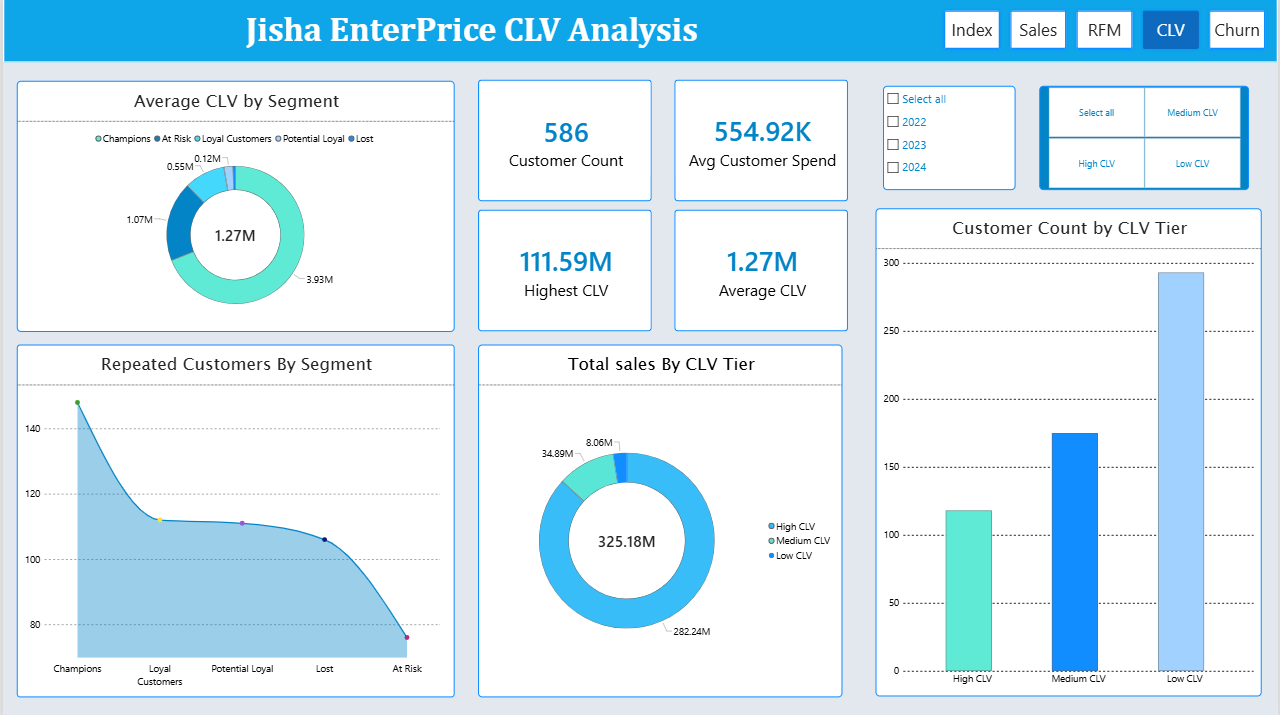

The dashboard page shown, as its layout file describes it:
{"tool":"powerbi","page":{"name":"CLV","canvas":[3000,1700],"ordinal":3},"visuals":[{"type":"cardVisual","fields":{"Data":["Customer RFM.Customer Count"]},"box":[1116.4,194.5,409.1,287.9],"z":0},{"type":"cardVisual","fields":{"Data":["Customer RFM.Average CLV"]},"box":[1580,500.6,409.1,287.9],"z":1000},{"type":"cardVisual","fields":{"Data":["Customer RFM.Highest CLV"]},"box":[1116.4,500.6,409.1,287.9],"z":2000},{"type":"donutChart","title":"Total sales By CLV Tier","fields":{"Y":["Cleaned_File.Total Sales"],"Category":["Customer RFM.CLV Tier"]},"box":[1117.6,818.2,857.6,830.3],"z":3000},{"type":"donutChart","fields":{"Category":["Customer RFM.Segment"],"Y":["Customer RFM.Average CLV"]},"box":[32.1,197,1030.3,590.9],"z":4000},{"type":"shape","box":[0,0,3000,154.5],"z":5000},{"type":"textbox","box":[0,27.3,2206.1,124.2],"z":6000},{"type":"cardVisual","fields":{"Data":["Customer RFM.Average Customer Spend"]},"box":[1580,194.5,409.1,287.9],"z":7000},{"type":"lineChart","title":"Repeated Customers By Segment","fields":{"Y":["Customer RFM.Repeat Customers by Segment"],"Category":["Customer RFM.Segment"]},"box":[32.1,818.2,1030.3,830.3],"z":8000},{"type":"columnChart","fields":{"Category":["Customer RFM.CLV Tier"],"Y":["Customer RFM.Customer Count"]},"box":[2052.7,496.4,909.1,1148.5],"z":9000},{"type":"pageNavigator","box":[2206.1,24.2,772.5,107.5],"z":10000},{"type":"slicer","fields":{"Values":["Customer RFM.First Purchase Date.Variation.Date Hierarchy.Year"]},"box":[2070.9,208.5,312.1,245.5],"z":11000},{"type":"slicer","fields":{"Values":["Customer RFM.CLV Tier"]},"box":[2437.6,208.5,493.9,245.5],"z":12000}]}

Visuals, with their boxes in screenshot pixels (x1, y1, x2, y2), scaled from the page's 3000x1700 canvas onto the 1280x715 screenshot:
cardVisual - Customer RFM.Customer Count: 476:82:651:203
cardVisual - Customer RFM.Average CLV: 674:211:849:332
cardVisual - Customer RFM.Highest CLV: 476:211:651:332
"Total sales By CLV Tier" donutChart: 477:344:843:693
donutChart - Customer RFM.Segment x Customer RFM.Average CLV: 14:83:453:331
shape: 0:0:1279:65
textbox: 0:11:941:64
cardVisual - Customer RFM.Average Customer Spend: 674:82:849:203
"Repeated Customers By Segment" lineChart: 14:344:453:693
columnChart - Customer RFM.CLV Tier x Customer RFM.Customer Count: 876:209:1264:692
pageNavigator: 941:10:1271:55
slicer - Customer RFM.First Purchase Date.Variation.Date Hierarchy.Year: 884:88:1017:191
slicer - Customer RFM.CLV Tier: 1040:88:1251:191
